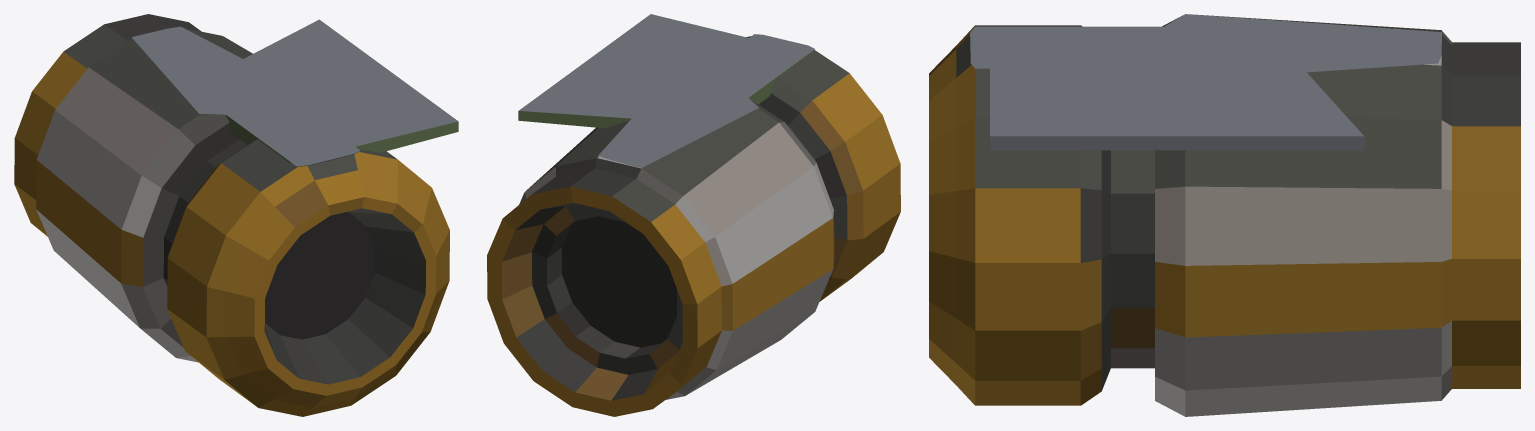
File: engine_lower_port.glb
The picture shows the model from 3 angles, left to right: view 1: azimuth 30°, elevation 25°; view 2: azimuth 150°, elevation 25°; view 3: azimuth 270°, elevation 25°; orthographic projection. The views are drawn at different scales.
Bounding box in the file's own units: 0.7809 × 0.7327 × 1.12.
